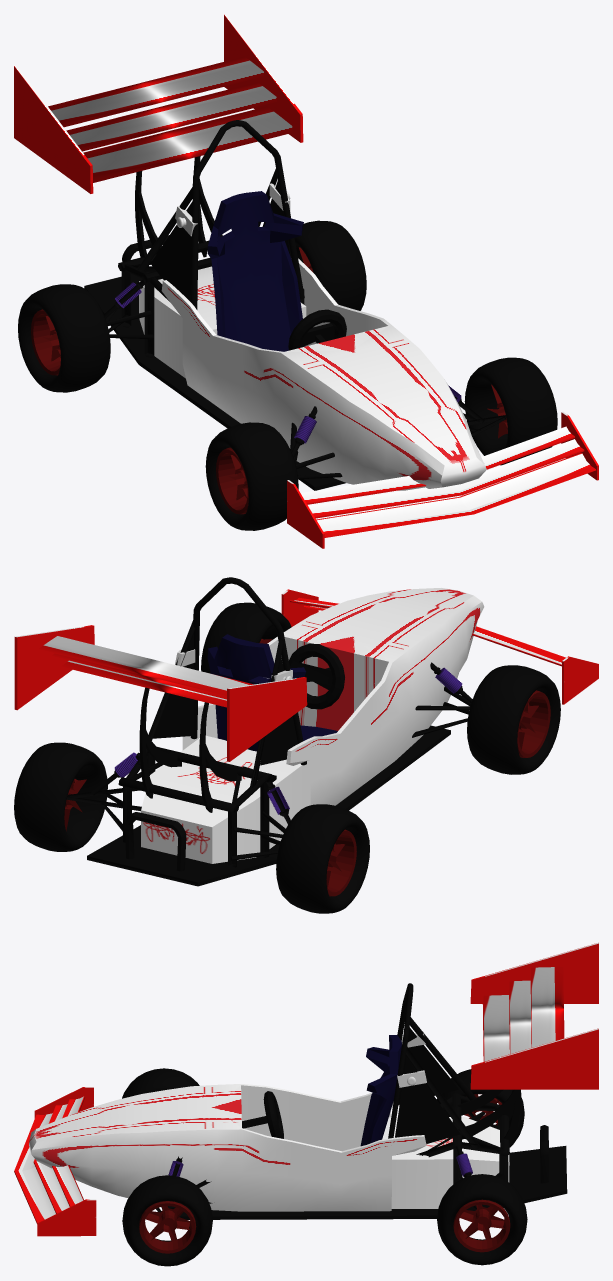
The model's file is formula-student-car (1).fbx.
The picture shows the model from 3 angles, top to bottom: view 1: azimuth 30°, elevation 25°; view 2: azimuth 150°, elevation 25°; view 3: azimuth 270°, elevation 25°; orthographic projection. The views are drawn at different scales.
Parts seen in each view (by area): view 1: Kabuk, On Ruzgarlik, Koltuk, Sol on teker.001, Cube.001, Sol on teker.004, Sol on teker.002, Cube.006, Cube.004, Cube.005, Demir, Sol on teker.003 (+8 smaller); view 2: Kabuk, Motor, Sol on teker.003, Demir, Cube.001, Sol on teker.001, Sol on teker.002, Alt Govde, Cube.004, Koltuk, On Ruzgarlik, Ucgen Bayrak (+10 smaller); view 3: Kabuk, Cube.001, On Ruzgarlik, Motor, Alt Govde, Sol on teker.004, Sol on teker.003, Demir, Ucgen Bayrak, Cube.004, Koltuk, Sag on jant.001 (+9 smaller).
Part boxes in pixels (x1,y1,x2,y2): Kabuk: (161,258,486,490); On Ruzgarlik: (287,411,598,548); Koltuk: (207,191,305,351); Sol on teker.001: (18,284,110,392); Cube.001: (14,14,303,193); Sol on teker.004: (464,357,557,465); Sol on teker.002: (205,422,298,530); Cube.006: (83,106,292,182); Cube.004: (48,56,264,127); Cube.005: (66,82,276,151); Demir: (104,169,506,479); Sol on teker.003: (294,220,366,310); Kabuk: (182,588,484,806); Motor: (141,735,306,863); Sol on teker.003: (14,742,107,851); Demir: (66,620,472,867); Cube.001: (14,625,307,761); Sol on teker.001: (276,804,369,913); Sol on teker.002: (467,665,560,774); Alt Govde: (87,725,450,886); Cube.004: (38,636,253,695); Koltuk: (207,634,337,751); On Ruzgarlik: (281,589,598,704); Ucgen Bayrak: (153,633,297,765); Kabuk: (29,1084,426,1211); Cube.001: (470,942,598,1089); On Ruzgarlik: (14,1087,96,1236); Motor: (382,1117,509,1208); Alt Govde: (167,1146,567,1219); Sol on teker.004: (122,1175,212,1266); Sol on teker.003: (437,1174,527,1265); Demir: (156,1015,509,1212); Ucgen Bayrak: (395,1027,460,1143); Cube.004: (530,967,564,1047); Koltuk: (360,1035,401,1146); Sag on jant.001: (139,1201,196,1253).
Bounding box in the file's own units: 523 × 429 × 1023.
